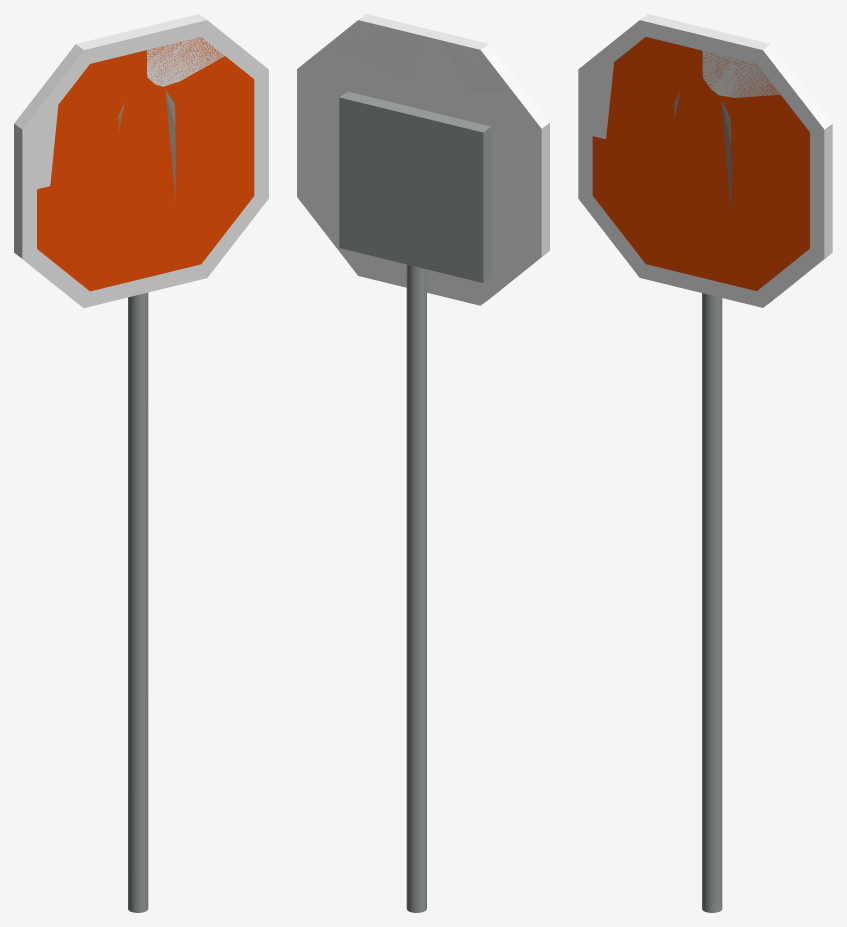
Rendered from Stop_Sign.fbx.
3 views of the same model, side by side, from view 1: azimuth 30°, elevation 25°; view 2: azimuth 150°, elevation 25°; view 3: azimuth 330°, elevation 25° (orthographic).
Visible parts, largest first — view 1: pCube70, pCube70_cell.071, pCube70_cell.073, pCube70_cell.038, pCube70_cell.045, pCube70_cell.039; view 2: pCube70, pCube70_cell.071, pCube70_cell.004, pCube70_cell.072; view 3: pCube70, pCube70_cell.071, pCube70_cell.073, pCube70_cell.038, pCube70_cell.045, pCube70_cell.039.
Part boxes in pixels (box(x1,y1,x2,y2)): pCube70: box(14, 14, 268, 912); pCube70_cell.071: box(146, 26, 236, 86); pCube70_cell.073: box(22, 91, 59, 192); pCube70_cell.038: box(83, 136, 114, 214); pCube70_cell.045: box(164, 91, 175, 210); pCube70_cell.039: box(118, 102, 129, 219); pCube70: box(297, 14, 549, 912); pCube70_cell.071: box(331, 30, 418, 84); pCube70_cell.004: box(441, 122, 486, 196); pCube70_cell.072: box(439, 40, 505, 92); pCube70: box(578, 14, 832, 912); pCube70_cell.071: box(702, 35, 792, 97); pCube70_cell.073: box(578, 45, 614, 139); pCube70_cell.038: box(639, 119, 670, 197); pCube70_cell.045: box(720, 100, 731, 219); pCube70_cell.039: box(674, 91, 685, 208).
Bounding box in the file's own units: 20.31 × 69.34 × 2.36.
